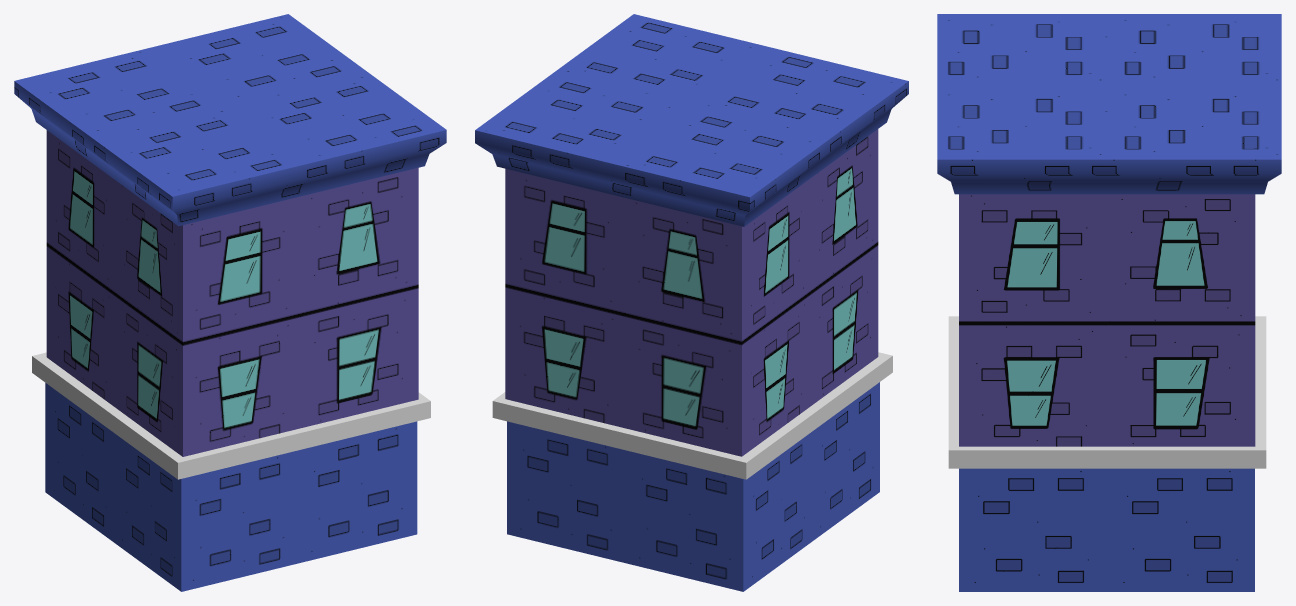
The picture shows the model from 3 angles, left to right: view 1: azimuth 30°, elevation 25°; view 2: azimuth 150°, elevation 25°; view 3: azimuth 270°, elevation 25°; orthographic projection. The views are drawn at different scales.
Visible parts, largest first — view 1: Box003, Box004, Box001, Box002; view 2: Box003, Box004, Box001, Box002; view 3: Box003, Box004, Box001, Box002.
Part boxes in pixels (bbox=[...]): Box003: bbox=[46, 130, 418, 456]; Box004: bbox=[14, 14, 446, 226]; Box001: bbox=[45, 383, 417, 591]; Box002: bbox=[32, 352, 430, 479]; Box003: bbox=[505, 129, 878, 456]; Box004: bbox=[475, 14, 908, 226]; Box001: bbox=[507, 382, 879, 591]; Box002: bbox=[492, 352, 892, 479]; Box003: bbox=[959, 194, 1255, 446]; Box004: bbox=[937, 14, 1281, 194]; Box001: bbox=[959, 468, 1254, 591]; Box002: bbox=[948, 316, 1266, 468].
Size of the model in its own units: 5.81 by 8.24 by 5.81.
